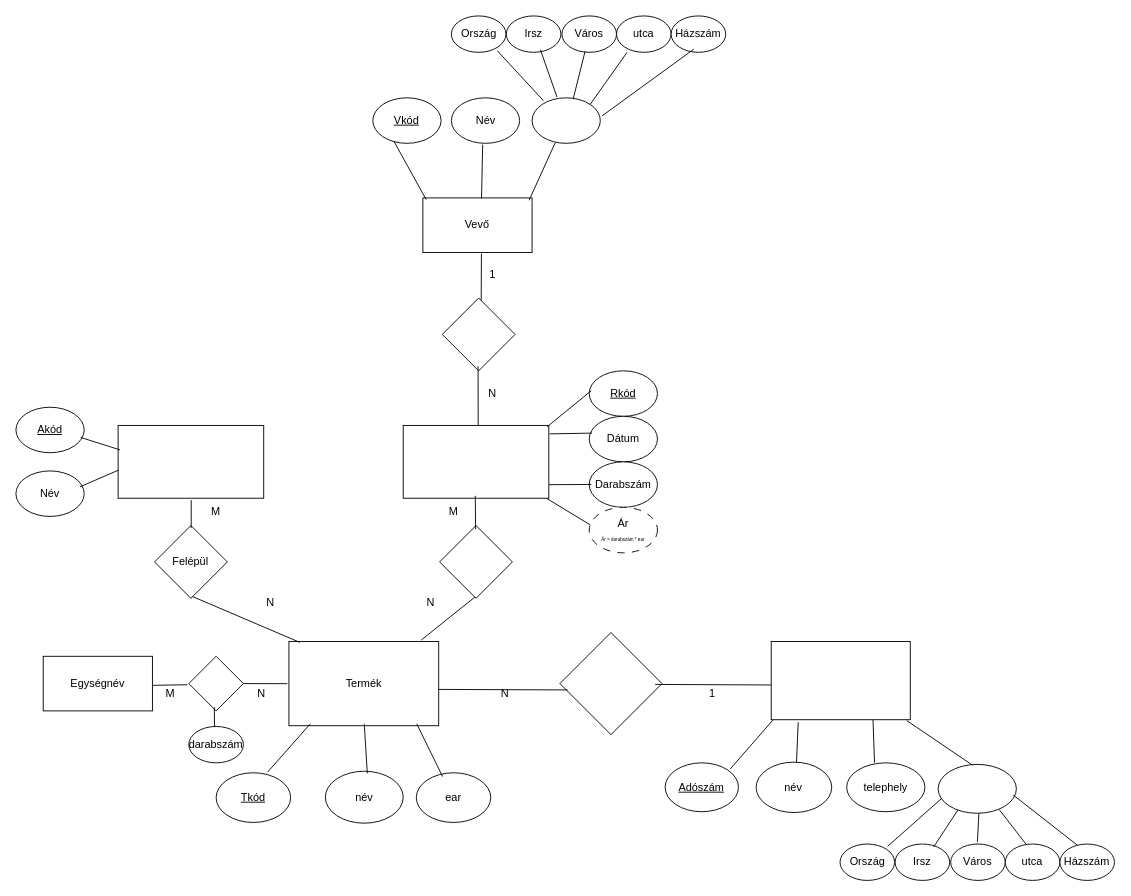
The diagram is 1131 pixels wide and 896 high, and some of its shapes have lost their labels. The centre of each missing label's shape, as x and y in pixels:
"Alkatrész" goes at [190,461].
"Gyártó" goes at [840,680].
"Készíti" goes at [610,683].
"Lakcím" goes at [565,120].
"Leadja" goes at [478,334].
"postai cím" goes at [976,788].
"Rendelés" goes at [475,461].
"Szerepel" goes at [475,561].
"Tartalmaz" goes at [215,683].
